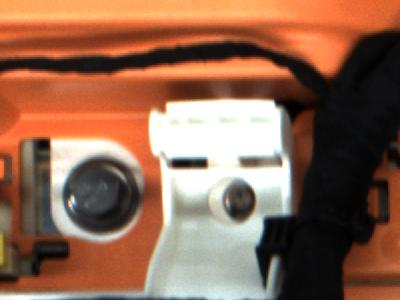nut_b: (63, 156, 142, 234)
